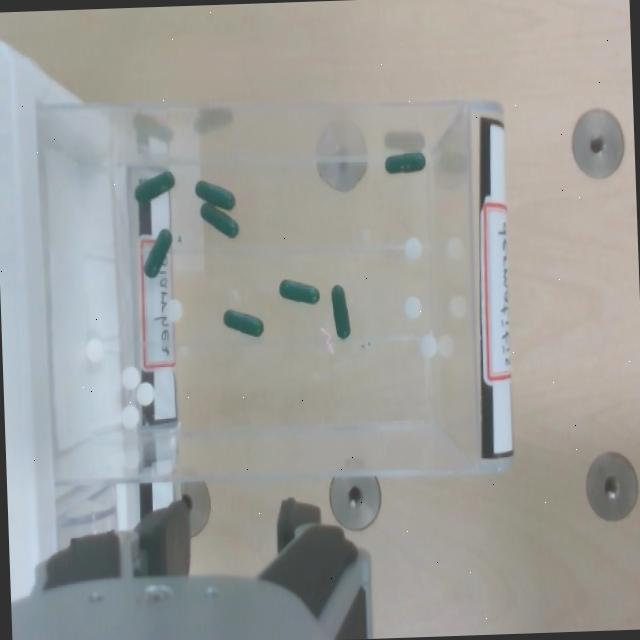ganakan_tab: (401, 234, 422, 261), (83, 337, 103, 364), (134, 380, 154, 404), (119, 403, 138, 428), (119, 364, 138, 388), (403, 293, 421, 318), (419, 332, 437, 357), (164, 298, 182, 321)
monodoxy_cap: (140, 227, 172, 278), (198, 199, 238, 238), (132, 168, 175, 203), (221, 304, 263, 337), (193, 176, 235, 209), (144, 228, 171, 276), (200, 202, 237, 236), (134, 169, 173, 201), (277, 275, 318, 305), (329, 281, 350, 338), (195, 179, 234, 208), (383, 148, 426, 174), (223, 309, 262, 335), (331, 283, 349, 337), (279, 278, 318, 302), (384, 150, 424, 171)
